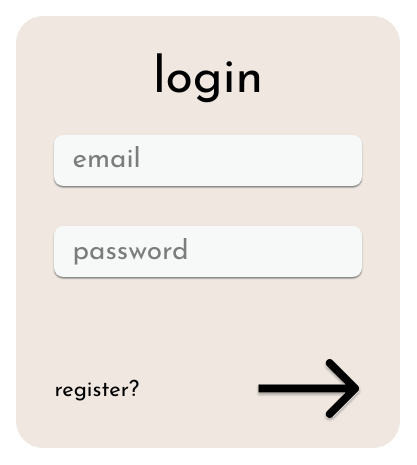
Test: Login › shows server error message on failed login
The width and height of the screenshot is (417, 465).
Type "alice@example.com" into the field with placeholder "email" at (208, 160), box [54, 134, 362, 186]
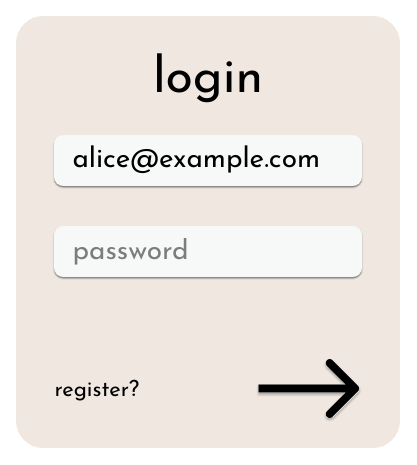
Type "wrongpass" into the password field with placeholder "password" at (208, 252), box [54, 226, 362, 277]
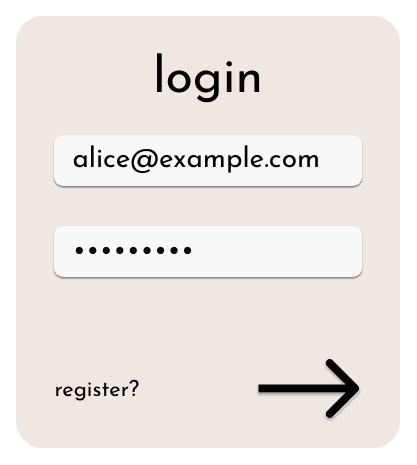
Click the button named "submit" at (309, 390), box [256, 358, 362, 422]
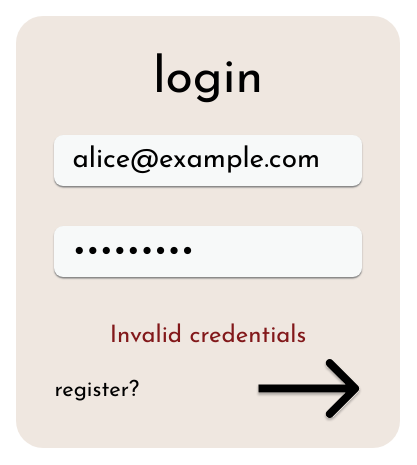
Expected: the text "Invalid credentials" is shown, [110, 318, 306, 350]
